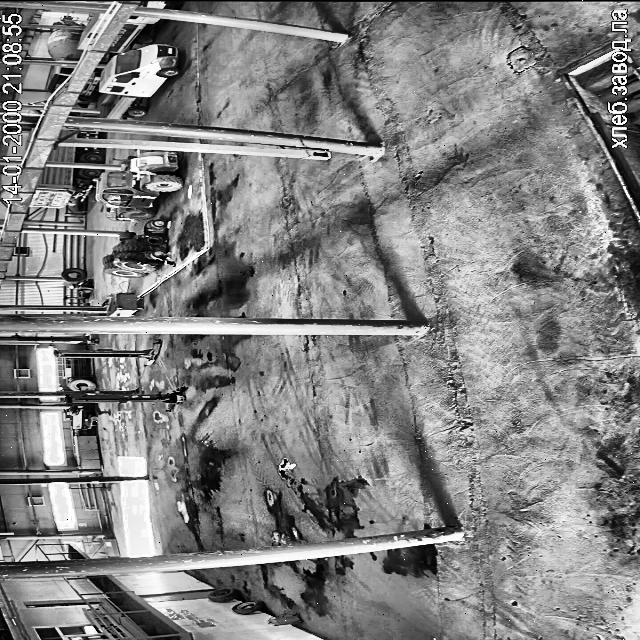class4: (114, 252, 173, 265)
class6: (96, 151, 182, 220), (102, 220, 166, 278)
class7: (100, 44, 180, 118), (28, 167, 100, 208), (108, 16, 157, 52), (46, 30, 81, 60), (49, 146, 102, 163), (79, 12, 102, 48), (77, 68, 99, 103), (45, 66, 73, 92), (140, 0, 172, 8), (76, 132, 97, 141), (60, 130, 69, 136), (58, 19, 68, 24), (69, 20, 76, 24)
tractor: (268, 616, 300, 624)
truck: (66, 388, 186, 411), (52, 340, 161, 365)
